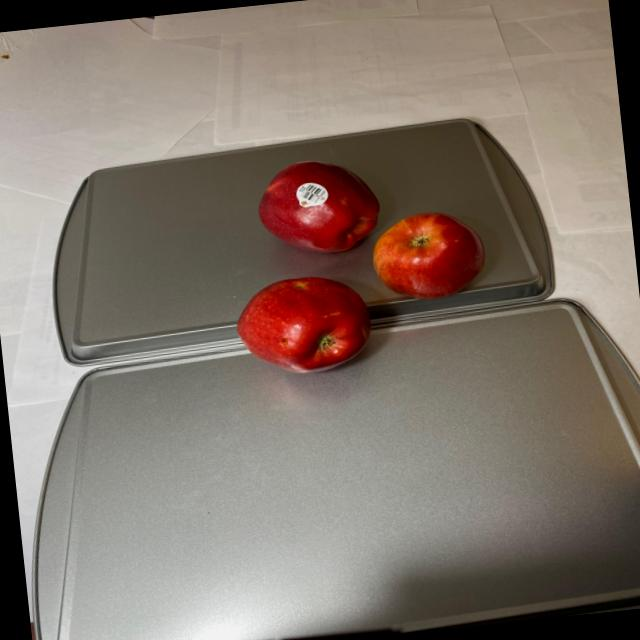apple: (220, 142, 496, 378)
